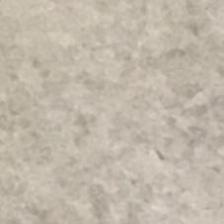Non_Crack: (16, 40, 205, 186)
